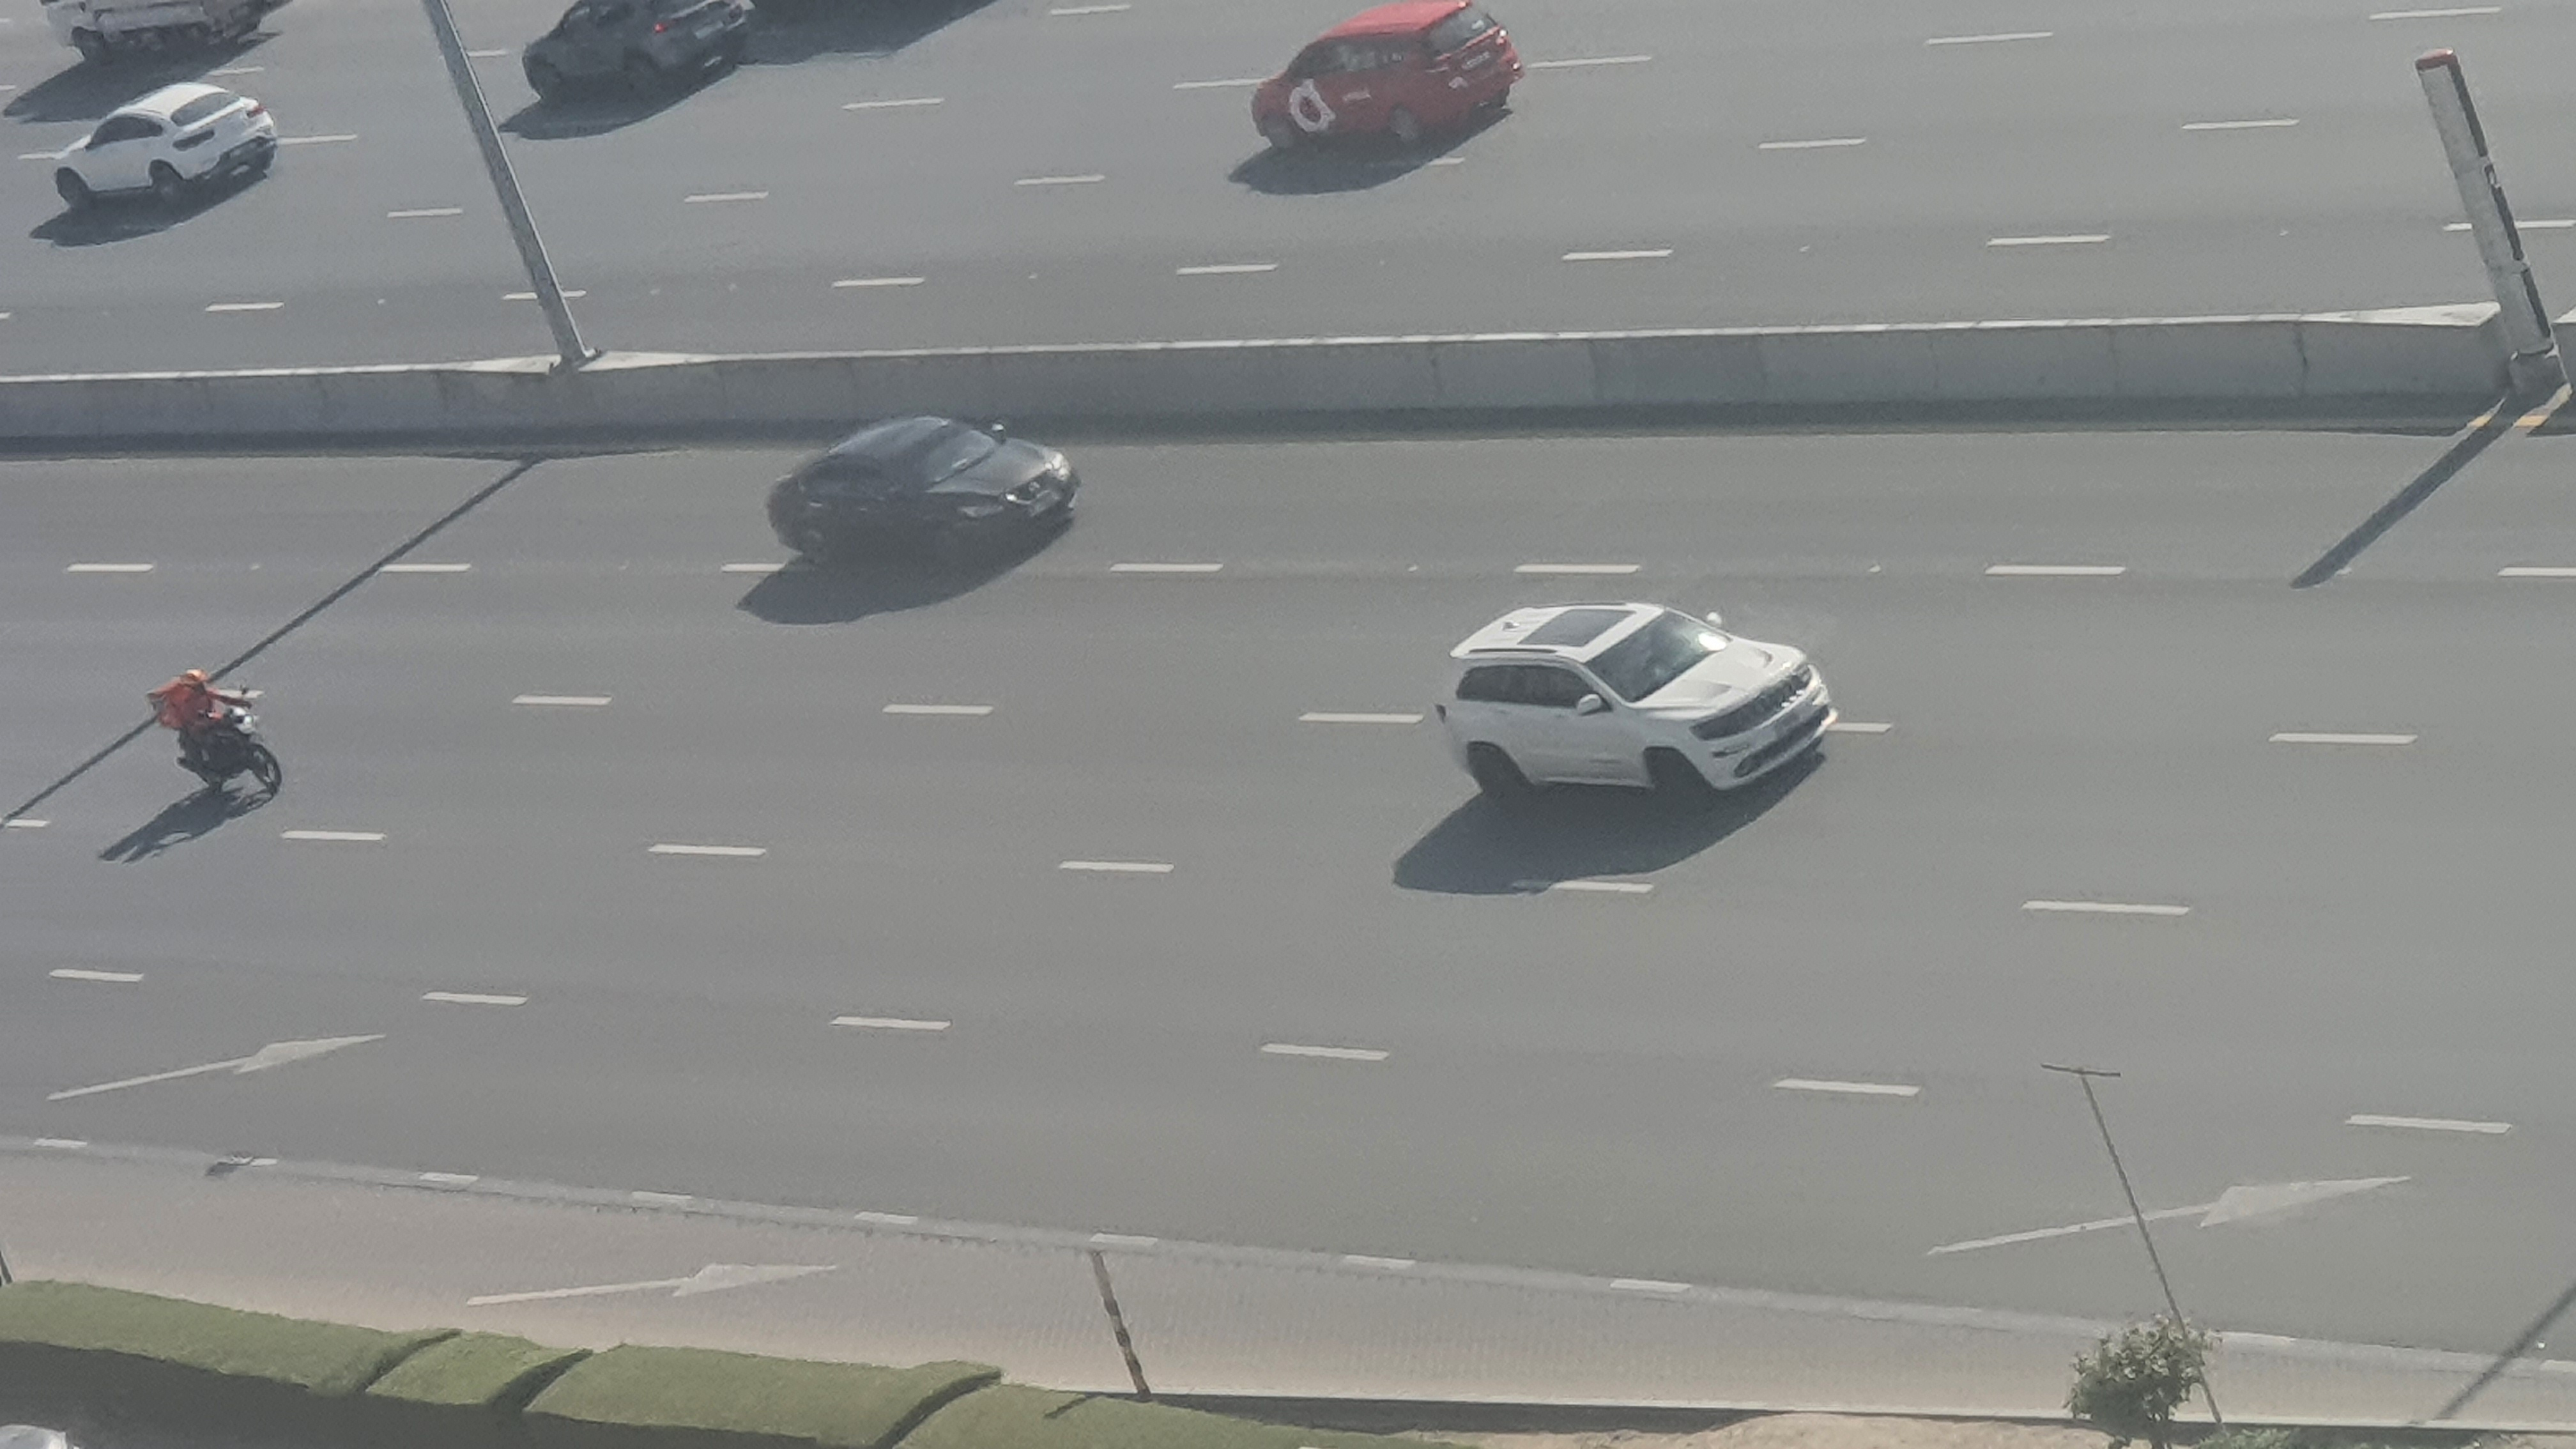Sunroof: (1415, 587, 1836, 810), (763, 405, 1088, 587)
